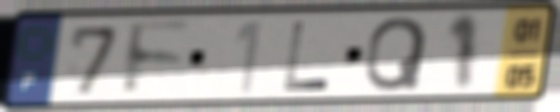1: (442, 11, 479, 96), (234, 19, 264, 96)
7: (67, 23, 121, 98)
F: (121, 18, 195, 101)
L: (280, 19, 333, 94)
Q: (361, 14, 431, 94)
